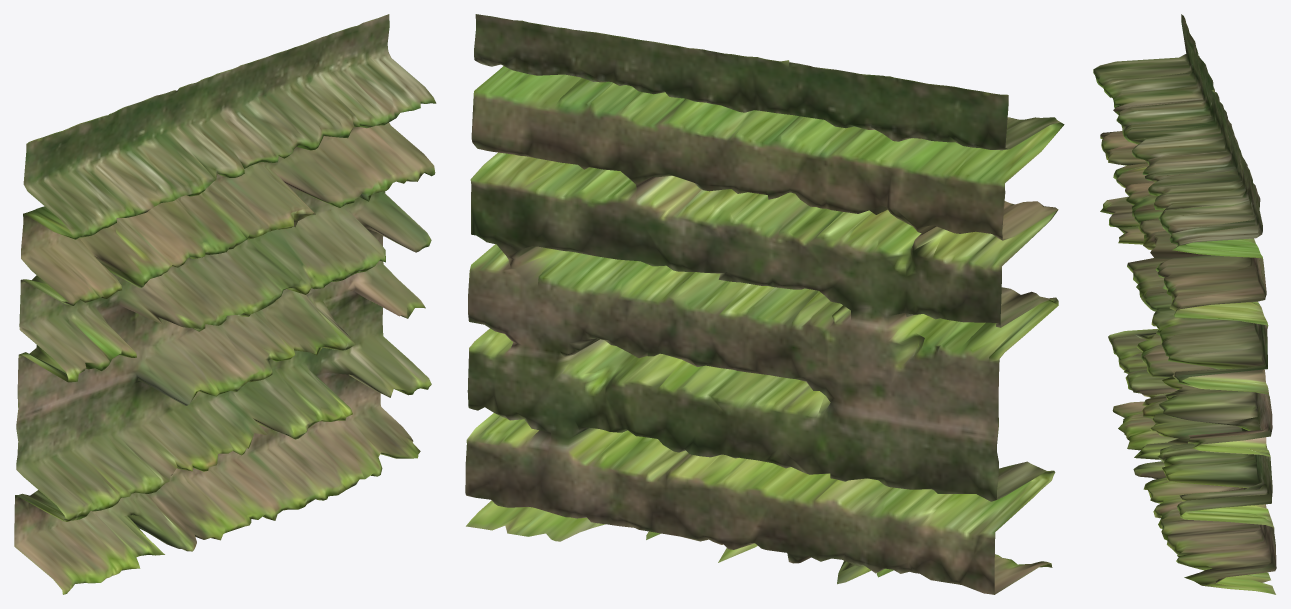
The model's file is map_220_40.obj.
3 renders of one model, left to right at view 1: azimuth 30°, elevation 25°; view 2: azimuth 150°, elevation 25°; view 3: azimuth 270°, elevation 25°, orthographic. The views are drawn at different scales.
Parts seen in each view (by area): view 1: map_220_40.obj; view 2: map_220_40.obj; view 3: map_220_40.obj.
Part boxes in pixels (x1=…): map_220_40.obj: x1=14, y1=14, x2=436, y2=594; map_220_40.obj: x1=465, y1=14, x2=1064, y2=594; map_220_40.obj: x1=1093, y1=14, x2=1276, y2=594.
Size of the model in its own units: 10 by 10 by 4.19.
Materials: 1 (1 with a texture image).
